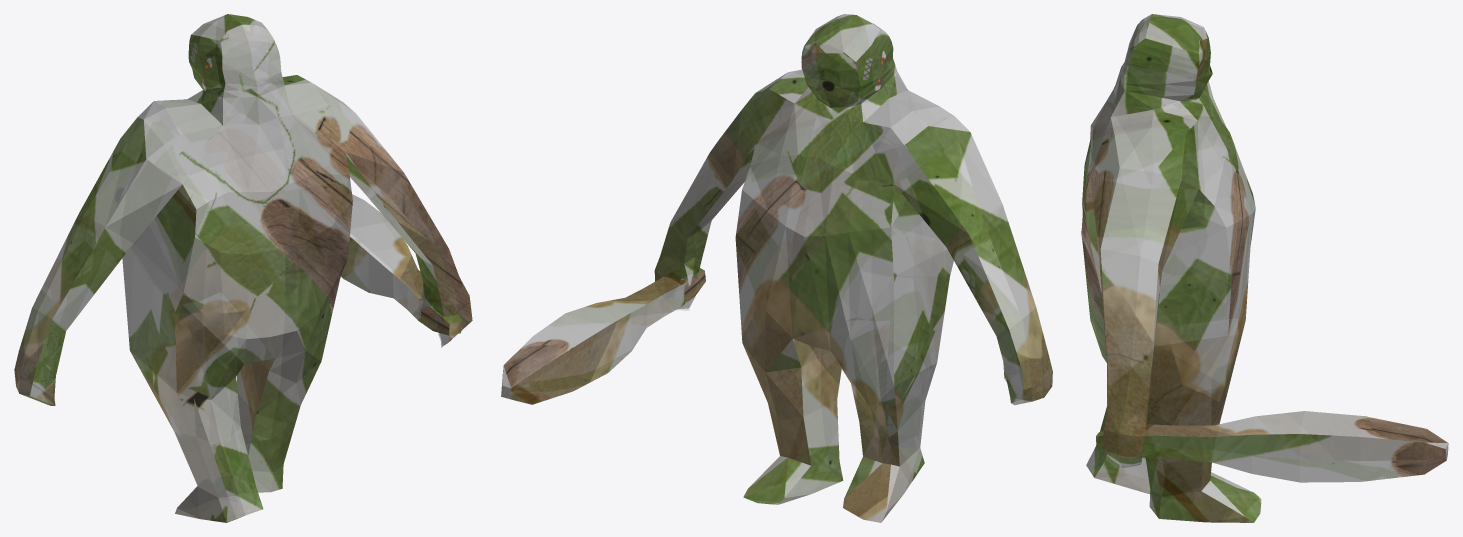
Rendered from Enemigo214.obj.
3 renders of one model, left to right at view 1: azimuth 30°, elevation 25°; view 2: azimuth 150°, elevation 25°; view 3: azimuth 270°, elevation 25°, orthographic. The views are drawn at different scales.
Visible parts, largest first — view 1: Cube; view 2: Cube; view 3: Cube.
Boxes of the visible parts, <box> form: Cube: <box>14,14,472,522</box>; Cube: <box>501,14,1052,522</box>; Cube: <box>1081,14,1448,522</box>.
Size of the model in its own units: 2.59 by 2.82 by 1.89.
